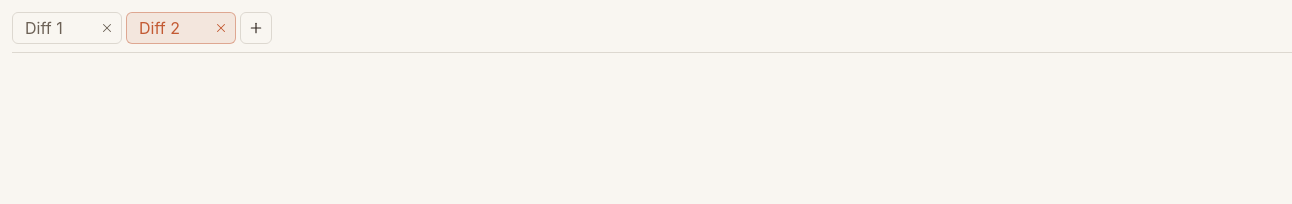
Scenario: DiffTabs › closes other tabs from the right-click menu
This screenshot has width=1292, height=204.
Right-click the tab "Diff 2" at (167, 28), box [127,13,207,43]
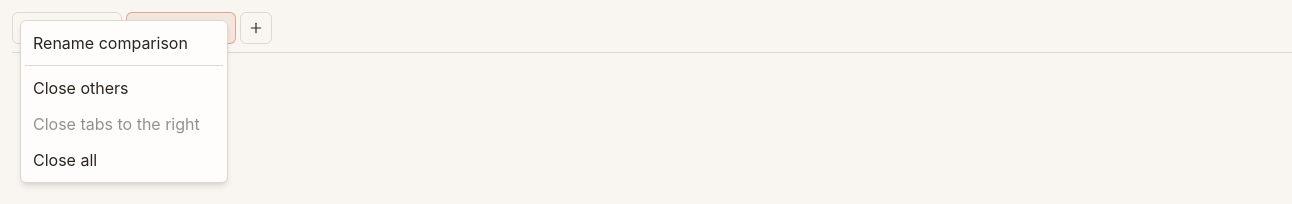
Click the menu item "Close others" at (124, 88), box [25,70,223,106]
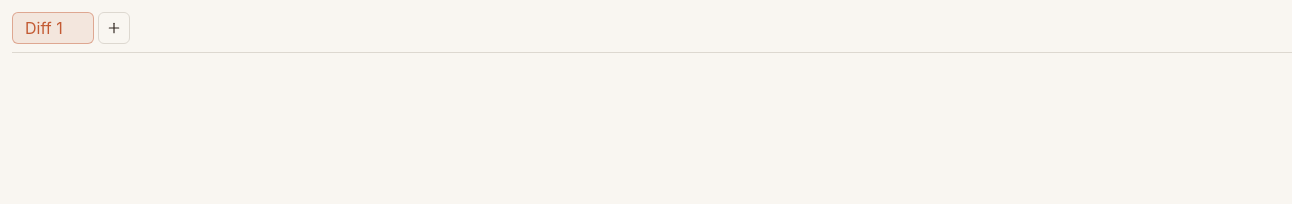
Expected: the number of tabs is 1, [13,13,93,43]
